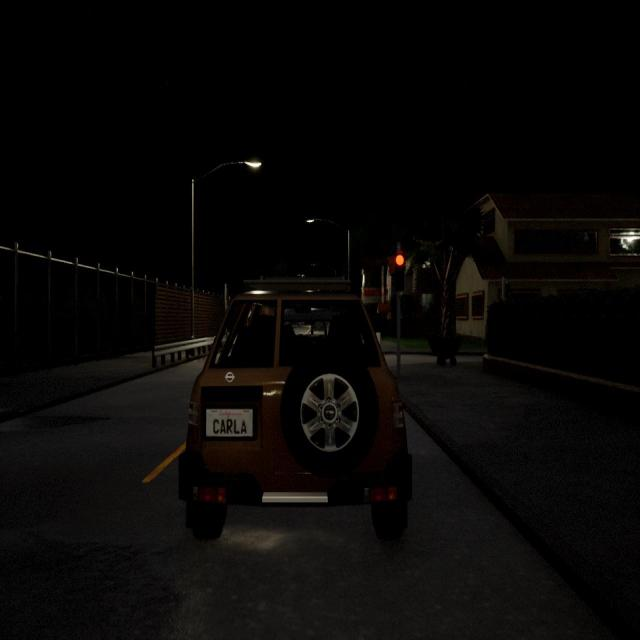Vehicle: (180, 278, 412, 539)
traffic_light: (394, 252, 405, 292)
